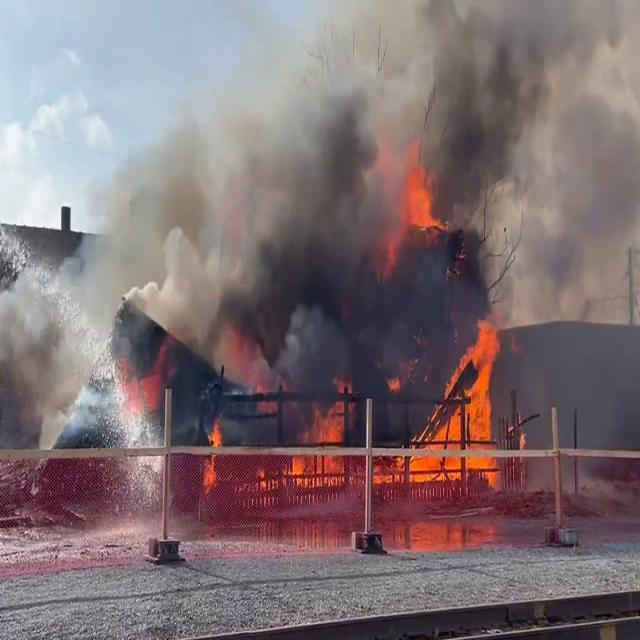Fire: (400, 314, 503, 490), (290, 402, 354, 485), (398, 148, 444, 240), (196, 413, 228, 491)
Smoke: (123, 1, 565, 382), (0, 248, 146, 462)
